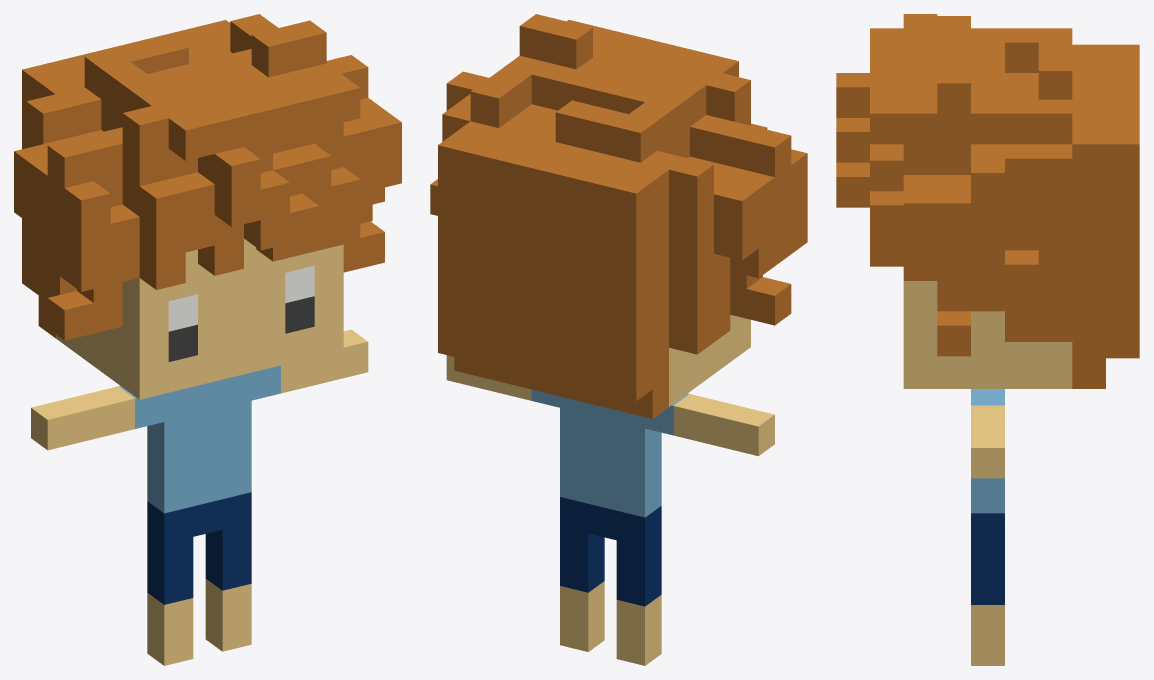
The model's file is boy.obj.
3 renders of one model, left to right at view 1: azimuth 30°, elevation 25°; view 2: azimuth 150°, elevation 25°; view 3: azimuth 270°, elevation 25°, orthographic. The views are drawn at different scales.
Visible parts, largest first — view 1: boy; view 2: boy; view 3: boy.
Boxes of the visible parts, x1,y1,x2,y2 form: boy: [14, 14, 401, 665]; boy: [430, 14, 807, 665]; boy: [836, 14, 1139, 665].
Bounding box in the file's own units: 11 × 20 × 9.
Materials: 1 (1 with a texture image).
